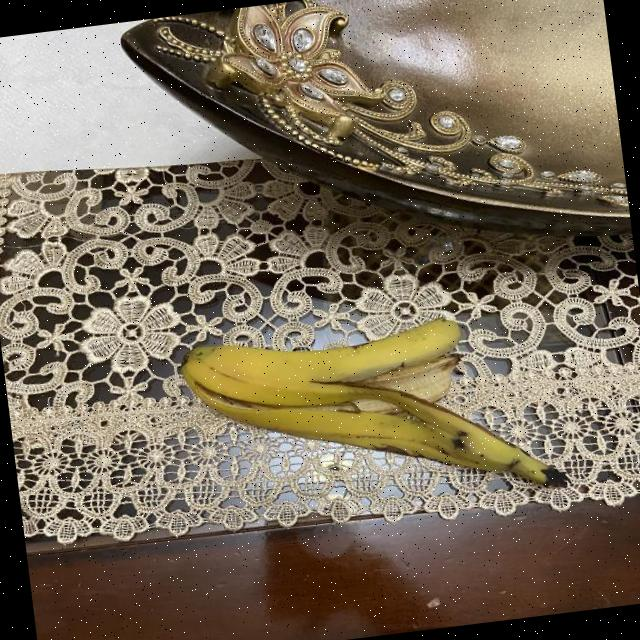banana-peel: (176, 302, 569, 532), (177, 311, 469, 431)
